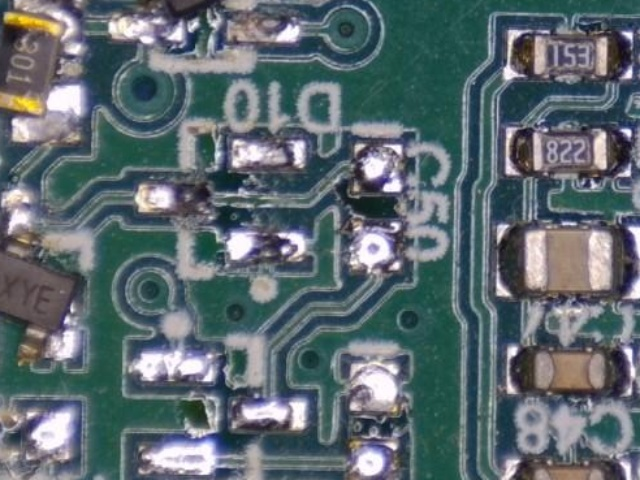pcb_defect: (0, 188, 81, 364), (0, 0, 85, 145), (109, 0, 259, 43)
